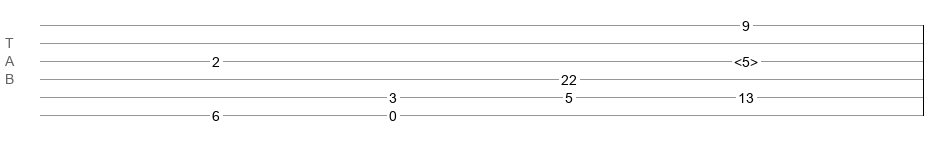0: (389, 108, 397, 118)
13: (738, 90, 754, 100)
2: (212, 54, 220, 64)
22: (561, 72, 577, 82)
3: (389, 90, 397, 100)
5: (565, 90, 573, 100)
6: (212, 108, 220, 118)
9: (742, 18, 750, 28)
harmonic: (734, 54, 758, 64)
